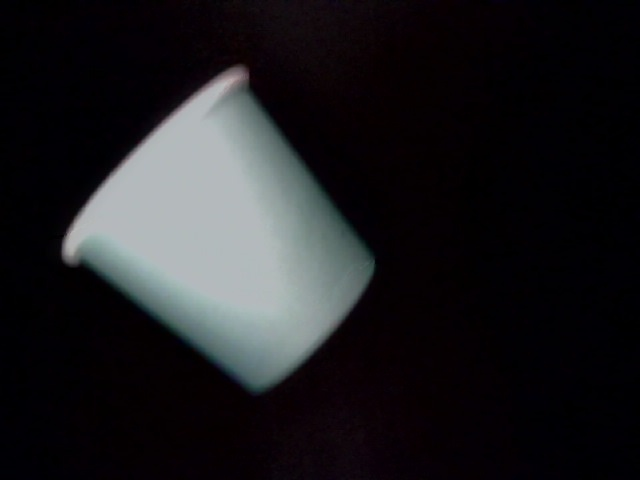CYLJ: (158, 137, 263, 250)
